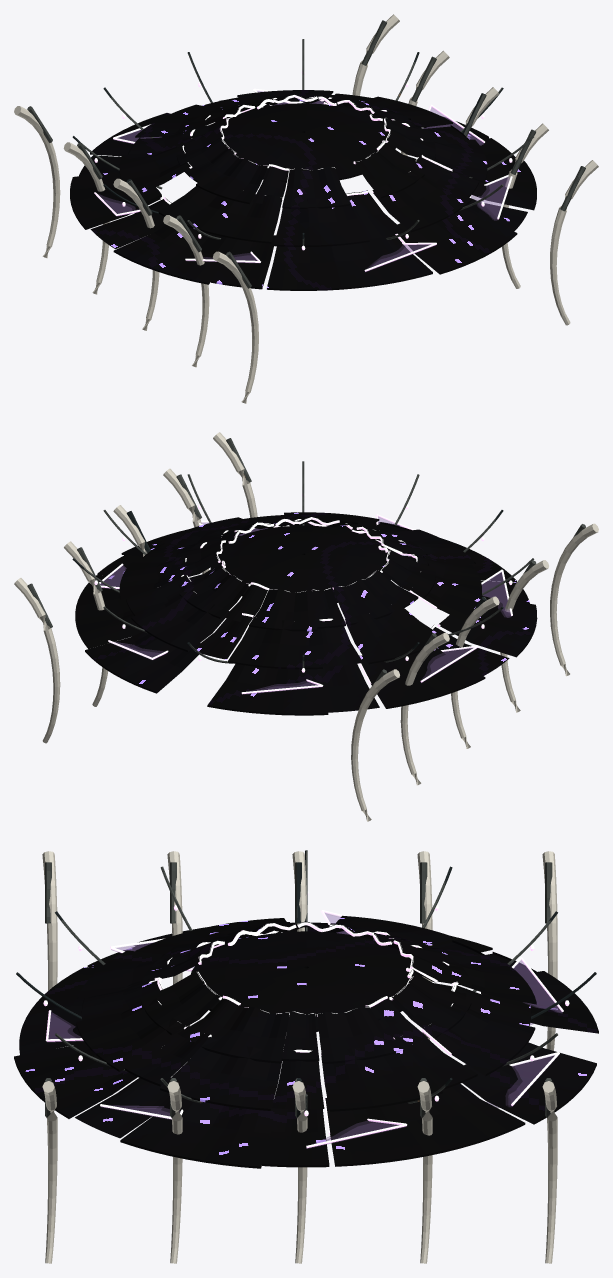
File: inversion_cosmic_membrane.glb
3 views of the same model, one above another, from view 1: azimuth 30°, elevation 25°; view 2: azimuth 150°, elevation 25°; view 3: azimuth 270°, elevation 25° (orthographic). The views are drawn at different scales.
Visible parts, largest first — view 1: inversion_cosmic_membrane_broken, inversion_cosmic_membrane_warm, inversion_cosmic_membrane_petrol, inversion_cosmic_membrane_sick, inversion_cosmic_membrane_translucent; view 2: inversion_cosmic_membrane_broken, inversion_cosmic_membrane_warm, inversion_cosmic_membrane_petrol, inversion_cosmic_membrane_sick, inversion_cosmic_membrane_translucent; view 3: inversion_cosmic_membrane_broken, inversion_cosmic_membrane_warm, inversion_cosmic_membrane_petrol, inversion_cosmic_membrane_sick, inversion_cosmic_membrane_translucent.
Boxes of the visible parts, left/top/right/bottom form: inversion_cosmic_membrane_broken: left=70, top=90, right=536, bottom=290; inversion_cosmic_membrane_warm: left=14, top=14, right=598, bottom=403; inversion_cosmic_membrane_petrol: left=27, top=20, right=585, bottom=288; inversion_cosmic_membrane_sick: left=94, top=71, right=512, bottom=271; inversion_cosmic_membrane_translucent: left=98, top=91, right=509, bottom=272; inversion_cosmic_membrane_broken: left=75, top=512, right=537, bottom=715; inversion_cosmic_membrane_warm: left=14, top=432, right=598, bottom=821; inversion_cosmic_membrane_petrol: left=27, top=438, right=585, bottom=682; inversion_cosmic_membrane_sick: left=94, top=493, right=512, bottom=694; inversion_cosmic_membrane_translucent: left=100, top=516, right=511, bottom=694; inversion_cosmic_membrane_broken: left=14, top=915, right=598, bottom=1168; inversion_cosmic_membrane_warm: left=42, top=851, right=557, bottom=1263; inversion_cosmic_membrane_petrol: left=16, top=850, right=596, bottom=1117; inversion_cosmic_membrane_sick: left=43, top=891, right=569, bottom=1148; inversion_cosmic_membrane_translucent: left=47, top=913, right=562, bottom=1148.
Bounding box in the file's own units: 10.35 × 3.91 × 10.39.
5 materials, 2 textured.
